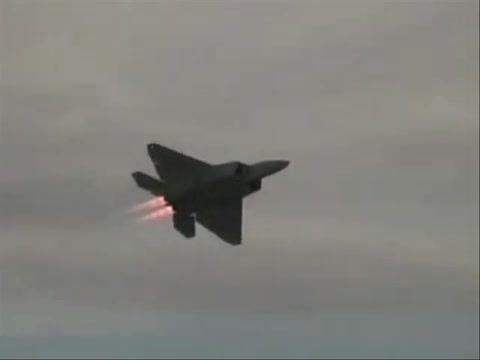aeroplane: (132, 143, 292, 248)
